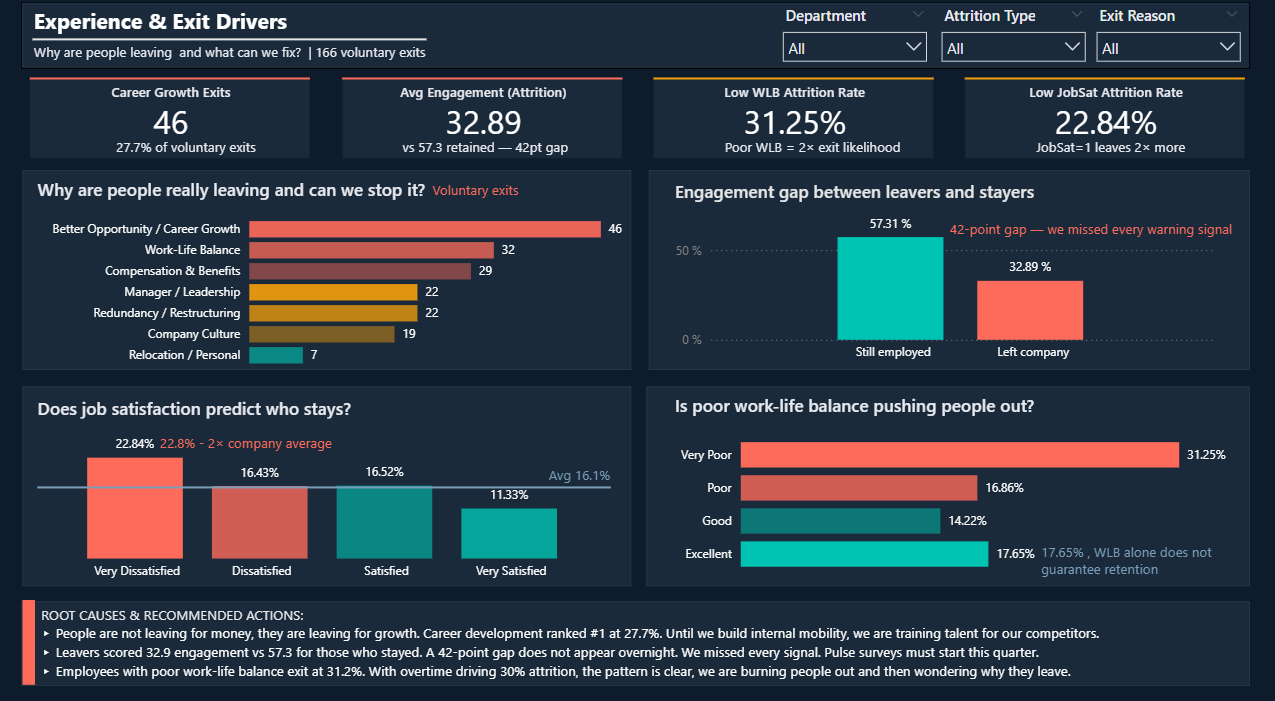

What the dashboard file says about the page in this screenshot:
{"tool":"powerbi","page":{"name":"Exit Drivers","canvas":[1280,720],"ordinal":2},"visuals":[{"type":"shape","box":[26.2,12.5,1228.8,66.2],"z":0},{"type":"textbox","box":[34,11,315.7,59],"z":1000},{"type":"slicer","fields":{"Values":["HR_Attrition.Department"]},"box":[777.1,10,164.3,61.4],"z":2000},{"type":"slicer","fields":{"Values":["HR_Attrition.AttritionType"]},"box":[935.7,10,164.3,61.4],"z":3000},{"type":"slicer","fields":{"Values":["HR_Attrition.ExitReason"]},"box":[1091.4,10,164.3,61.4],"z":4000},{"type":"shape","box":[26.2,611.2,1228.8,85],"z":5000},{"type":"textbox","box":[65,465,77.1,30],"z":6000},{"type":"textbox","box":[41,611.2,1103.8,92.5],"z":7000},{"type":"shape","box":[37,30,394,38.8],"z":8000},{"type":"textbox","box":[34,48,431.4,58.6],"z":9000},{"type":"shape","box":[27.5,396.2,608.8,200],"z":10000},{"type":"shape","box":[651.2,396.2,603.8,200],"z":11000},{"type":"shape","box":[27.5,180,608.8,200],"z":12000},{"type":"shape","box":[653.8,180,601.2,200],"z":13000},{"type":"cardVisual","fields":{"Data":["HR_Attrition.Career Growth Exits"]},"box":[30,87,290,86.2],"z":14000},{"type":"cardVisual","fields":{"Data":["HR_Attrition.Avg Engagement (Attrition)"]},"box":[343,87.5,290,86.2],"z":15000},{"type":"cardVisual","fields":{"Data":["HR_Attrition.Low WLB Attrition Rate"]},"box":[653.8,87,290,86.2],"z":16000},{"type":"cardVisual","fields":{"Data":["HR_Attrition.Low JobSat Attrition Rate"]},"box":[965,87.5,290,86.2],"z":17000},{"type":"textbox","box":[116.2,143,216.2,27.5],"z":18000},{"type":"textbox","box":[403,143,218.8,37.5],"z":19000},{"type":"textbox","box":[725,143,251.2,27.5],"z":20000},{"type":"textbox","box":[1036,143,215,37.5],"z":21000},{"type":"barChart","title":"Why are people really leaving and can we stop it?","fields":{"Category":["HR_Attrition.ExitReason"],"Y":["CountNonNull(HR_Attrition.EmployeeNumber)"]},"box":[37.5,187.5,595,200],"z":22000},{"type":"columnChart","title":"Does job satisfaction predict who stays?","fields":{"Category":["HR_Attrition.Job Satisfaction Label"],"Y":["HR_Attrition.Attrition Rate %"]},"box":[37.5,406.2,583.8,192.5],"z":23000},{"type":"barChart","title":"Is poor work-life balance pushing people out?","fields":{"Category":["HR_Attrition.Work Life Balance Label"],"Y":["HR_Attrition.Attrition Rate %"]},"box":[675,403.8,561.2,192.5],"z":24000},{"type":"columnChart","title":"Engagement gap between leavers and stayers","fields":{"Category":["Engagement Comparison.Group"],"Y":["Sum(Engagement Comparison.Avg Score)"]},"box":[675,190,550,190],"z":25000},{"type":"shape","box":[27.5,610,12.5,85],"z":26000},{"type":"textbox","box":[160,439,466.2,32.5],"z":27000},{"type":"textbox","box":[1041,548,218.8,46.2],"z":28000},{"type":"textbox","box":[950,225,310,40],"z":29000},{"type":"textbox","box":[433,186,195,35],"z":30000},{"type":"textbox","box":[549,471.2,82.5,31.2],"z":31000}]}

Visuals, with their boxes in screenshot pixels (x1, y1, x2, y2), scaled from the page's 1280x720 canvas onto the 1275x701 screenshot:
shape: box(26, 12, 1250, 77)
textbox: box(34, 11, 348, 68)
slicer - HR_Attrition.Department: box(774, 10, 938, 70)
slicer - HR_Attrition.AttritionType: box(932, 10, 1096, 70)
slicer - HR_Attrition.ExitReason: box(1087, 10, 1251, 70)
shape: box(26, 595, 1250, 678)
textbox: box(65, 453, 142, 482)
textbox: box(41, 595, 1140, 685)
shape: box(37, 29, 429, 67)
textbox: box(34, 47, 464, 104)
shape: box(27, 386, 634, 580)
shape: box(649, 386, 1250, 580)
shape: box(27, 175, 634, 370)
shape: box(651, 175, 1250, 370)
cardVisual - HR_Attrition.Career Growth Exits: box(30, 85, 319, 169)
cardVisual - HR_Attrition.Avg Engagement (Attrition): box(342, 85, 631, 169)
cardVisual - HR_Attrition.Low WLB Attrition Rate: box(651, 85, 940, 169)
cardVisual - HR_Attrition.Low JobSat Attrition Rate: box(961, 85, 1250, 169)
textbox: box(116, 139, 331, 166)
textbox: box(401, 139, 619, 176)
textbox: box(722, 139, 972, 166)
textbox: box(1032, 139, 1246, 176)
"Why are people really leaving and can we stop it?" barChart: box(37, 183, 630, 377)
"Does job satisfaction predict who stays?" columnChart: box(37, 395, 619, 583)
"Is poor work-life balance pushing people out?" barChart: box(672, 393, 1231, 581)
"Engagement gap between leavers and stayers" columnChart: box(672, 185, 1220, 370)
shape: box(27, 594, 40, 677)
textbox: box(159, 427, 624, 459)
textbox: box(1037, 534, 1255, 579)
textbox: box(946, 219, 1255, 258)
textbox: box(431, 181, 626, 215)
textbox: box(547, 459, 629, 489)
